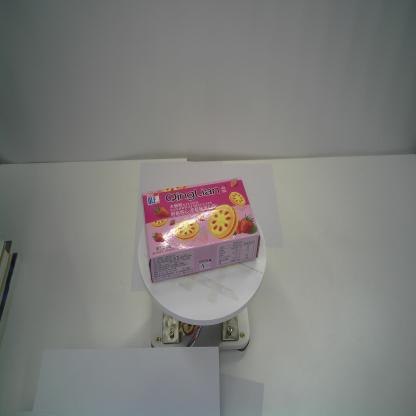Dessert: (141, 176, 261, 284)
